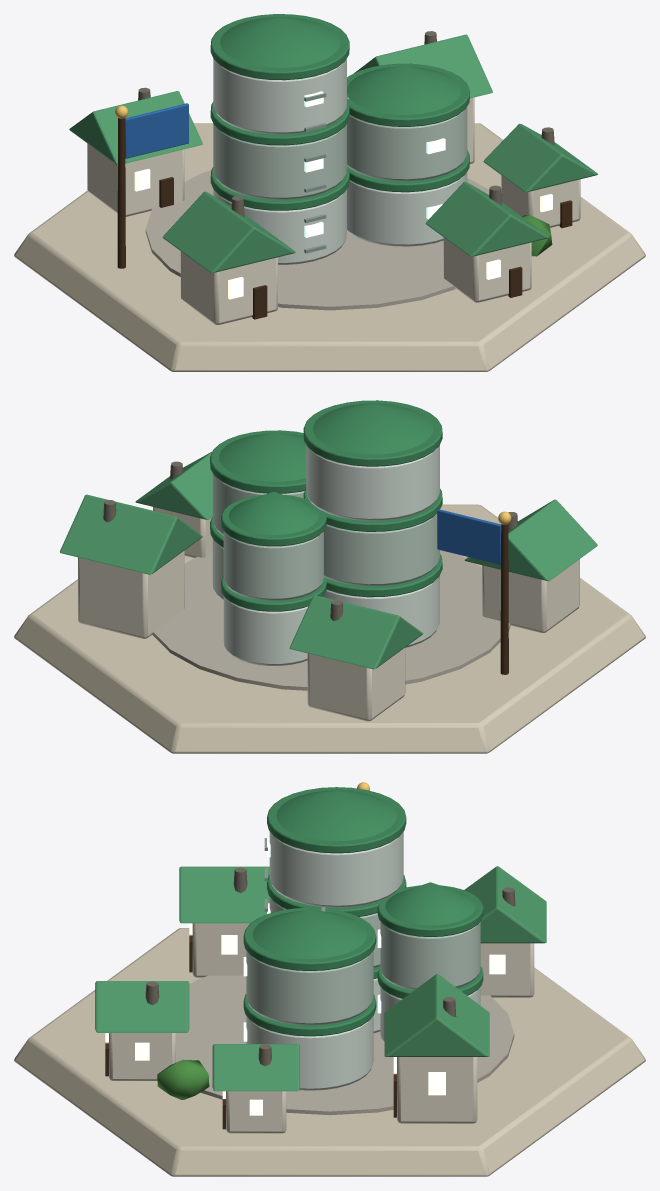
File: district-db.glb
3 renders of one model, top to bottom at view 1: azimuth 30°, elevation 25°; view 2: azimuth 150°, elevation 25°; view 3: azimuth 270°, elevation 25°, orthographic.
Parts seen in each view (by area): view 1: district-db; view 2: district-db; view 3: district-db.
Boxes of the visible parts, box(x1,y1,x2,y2) form: district-db: box(14, 14, 645, 371); district-db: box(14, 400, 645, 753); district-db: box(14, 782, 645, 1176).
Bounding box in the file's own units: 1.64 × 0.815 × 1.89.
